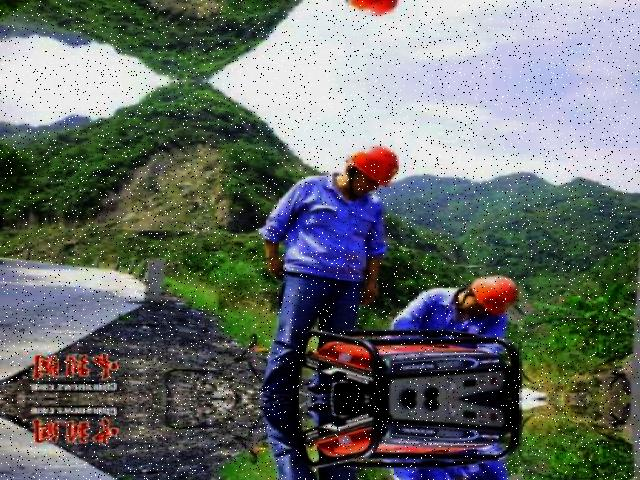Helmet: (344, 142, 405, 190), (464, 272, 524, 316)
